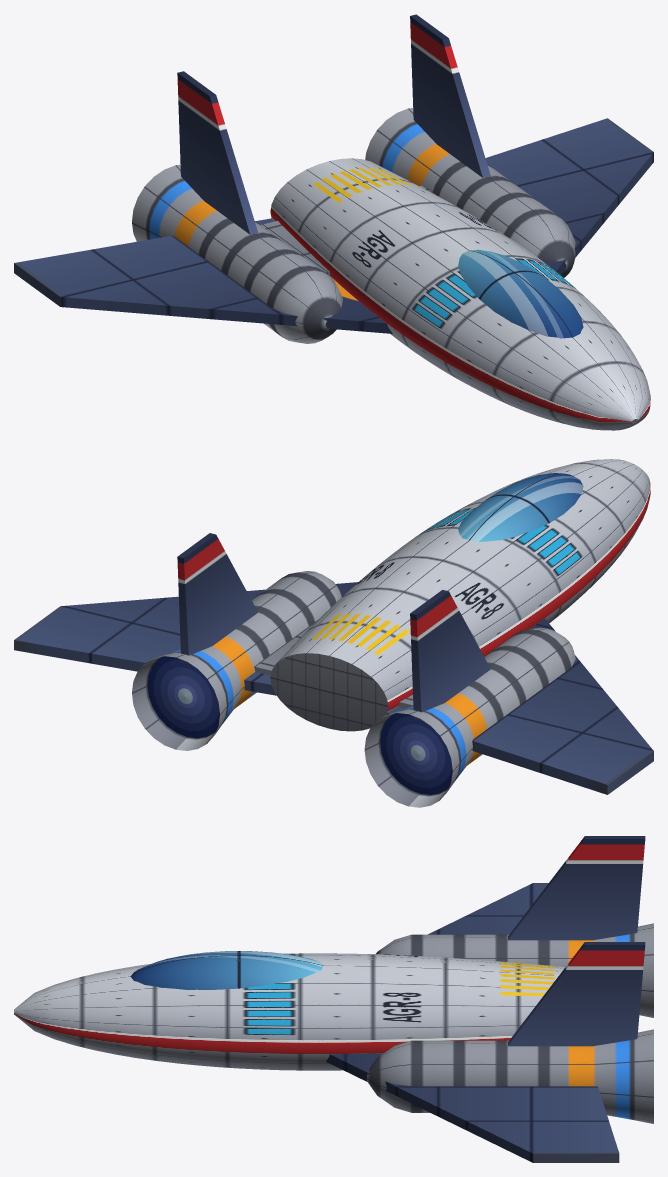
The model's file is nave_espacial.obj.
3 views of the same model, one above another, from view 1: azimuth 30°, elevation 25°; view 2: azimuth 150°, elevation 25°; view 3: azimuth 270°, elevation 25° (orthographic). The views are drawn at different scales.
Visible parts, largest first — view 1: nave; view 2: nave; view 3: nave.
Boxes of the visible parts, x1,y1,x2,y2 form: nave: [14, 14, 653, 430]; nave: [14, 459, 653, 807]; nave: [14, 836, 653, 1162].
Size of the model in its own units: 7.4 by 2.25 by 7.4.
